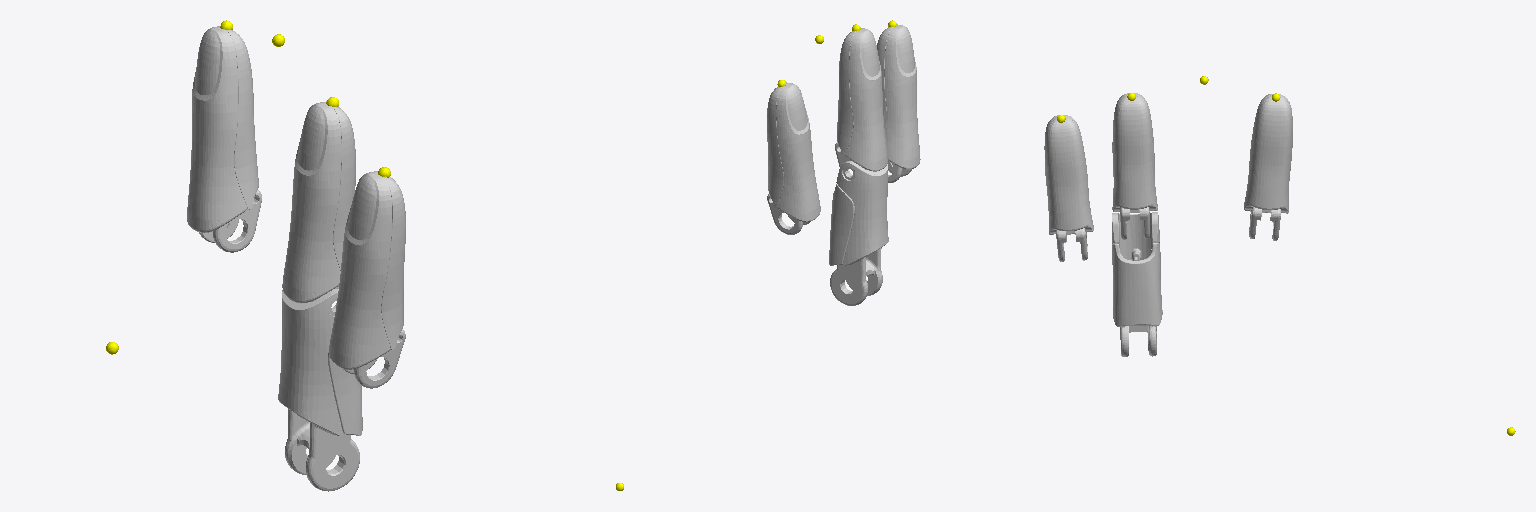
robot.urdf — a2_l1_right_hand:
<?xml version='1.0' encoding='utf-8'?>
<robot name="a2_l1_right_hand">
  <!--Extracted from DVT2 a2. Palm-root coordinates; source joint and inertial values preserved.-->
  <link name="right_palm_base_link">
    <visual name="right_palm_base_link_vis">
      <origin rpy="0 0 0" xyz="0 0 0" />
      <geometry>
        <mesh filename="../mesh/visual/casbot_hand/right_palm_base_link.obj" />
      </geometry>
      <material name="metal">
        <color rgba="0.85 0.85 0.85 1" />
      </material>
    </visual>
    <collision name="right_palm_base_link_col">
      <origin rpy="0 0 0" xyz="0 0 0" />
      <geometry>
        <mesh filename="../mesh/collision/casbot_hand/right_palm_base_link.obj" />
      </geometry>
    </collision>
    <inertial>
      <origin rpy="0.0 0.0 0.0" xyz="-0.0013 0.00050057 0.05223" />
      <mass value="0.43199" />
      <inertia ixx="0.00052055" ixy="-9.71e-06" ixz="3.11e-05" iyy="0.00037083" iyz="1.74e-05" izz="0.000235" />
    </inertial>
  </link>
  <link name="right_thumb_cmc_link">
    <visual name="right_thumb_cmc_link_vis">
      <origin rpy="0 0 0" xyz="0 0 0" />
      <geometry>
        <mesh filename="../mesh/visual/casbot_hand/right_thumb_cmc_link.obj" />
      </geometry>
      <material name="metal">
        <color rgba="0.85 0.85 0.85 1" />
      </material>
    </visual>
    <collision name="right_thumb_cmc_link_col">
      <origin rpy="0 0 0" xyz="0 0 0" />
      <geometry>
        <mesh filename="../mesh/collision/casbot_hand/right_thumb_cmc_link.obj" />
      </geometry>
    </collision>
    <inertial>
      <origin rpy="0.0 0.0 0.0" xyz="0 0.0049732 0.0007749" />
      <mass value="0.022768" />
      <inertia ixx="2E-06" ixy="0" ixz="0" iyy="1.02e-06" iyz="1.75e-07" izz="1.51e-06" />
    </inertial>
  </link>
  <link name="right_thumb_pip_link">
    <visual name="right_thumb_pip_link_vis">
      <origin rpy="0 0 0" xyz="0 0 0" />
      <geometry>
        <mesh filename="../mesh/visual/casbot_hand/right_thumb_pip_link.obj" />
      </geometry>
      <material name="metal">
        <color rgba="0.85 0.85 0.85 1" />
      </material>
    </visual>
    <collision name="right_thumb_pip_link_col">
      <origin rpy="0 0 0" xyz="0 0 0" />
      <geometry>
        <mesh filename="../mesh/collision/casbot_hand/right_thumb_pip_link.obj" />
      </geometry>
    </collision>
    <inertial>
      <origin rpy="0.0 0.0 0.0" xyz="5.03e-06 0.023794 0.005" />
      <mass value="0.02573" />
      <inertia ixx="5.72e-06" ixy="0" ixz="0" iyy="1.75e-06" iyz="-1.45e-06" izz="5.48e-06" />
    </inertial>
  </link>
  <link name="right_thumb_dip_link">
    <visual name="right_thumb_dip_link_vis">
      <origin rpy="0 0 0" xyz="0 0 0" />
      <geometry>
        <mesh filename="../mesh/visual/casbot_hand/right_thumb_dip_link.obj" />
      </geometry>
      <material name="metal">
        <color rgba="0.85 0.85 0.85 1" />
      </material>
    </visual>
    <collision name="right_thumb_dip_link_col">
      <origin rpy="0 0 0" xyz="0 0 0" />
      <geometry>
        <mesh filename="../mesh/collision/casbot_hand/right_thumb_dip_link.obj" />
      </geometry>
    </collision>
    <inertial>
      <origin rpy="0.0 0.0 0.0" xyz="-1.38e-05 0.020432 0.0085859" />
      <mass value="0.01371" />
      <inertia ixx="2.57e-06" ixy="0" ixz="0" iyy="9.2e-07" iyz="-8.3e-07" izz="2.29e-06" />
    </inertial>
  </link>
  <link name="right_thumb_tip_frame">
    <visual name="right_thumb_tip_frame_vis">
      <origin rpy="0 0 0" xyz="0 0 0" />
      <geometry>
        <sphere radius="0.0015" />
      </geometry>
      <material name="yellow">
        <color rgba="1 1 0 1" />
      </material>
    </visual>
    <collision name="right_thumb_tip_frame_col">
      <origin rpy="0 0 0" xyz="0 0 0" />
      <geometry>
        <sphere radius="0.0015" />
      </geometry>
    </collision>
    <inertial>
      <mass value="0" />
      <inertia ixx="0" ixy="0" ixz="0" iyy="0" iyz="0" izz="0" />
    </inertial>
  </link>
  <link name="right_index_mcp_link">
    <visual name="right_index_mcp_link_vis">
      <origin rpy="0 0 0" xyz="0 0 0" />
      <geometry>
        <mesh filename="../mesh/visual/casbot_hand/right_index_mcp_link.obj" />
      </geometry>
      <material name="metal">
        <color rgba="0.85 0.85 0.85 1" />
      </material>
    </visual>
    <collision name="right_index_mcp_link_col">
      <origin rpy="0 0 0" xyz="0 0 0" />
      <geometry>
        <mesh filename="../mesh/collision/casbot_hand/right_index_mcp_link.obj" />
      </geometry>
    </collision>
    <inertial>
      <origin rpy="0.0 0.0 0.0" xyz="-0.0014621 0 0.020991" />
      <mass value="0.01931" />
      <inertia ixx="4.71e-06" ixy="0" ixz="2E-08" iyy="4.7e-06" iyz="0" izz="6.6e-07" />
    </inertial>
  </link>
  <link name="right_index_pip_link">
    <visual name="right_index_pip_link_vis">
      <origin rpy="0 0 0" xyz="0 0 0" />
      <geometry>
        <mesh filename="../mesh/visual/casbot_hand/right_index_pip_link.obj" />
      </geometry>
      <material name="metal">
        <color rgba="0.85 0.85 0.85 1" />
      </material>
    </visual>
    <collision name="right_index_pip_link_col">
      <origin rpy="0 0 0" xyz="0 0 0" />
      <geometry>
        <mesh filename="../mesh/collision/casbot_hand/right_index_pip_link.obj" />
      </geometry>
    </collision>
    <inertial>
      <origin rpy="0.0 0.0 0.0" xyz="-0.00052321 4.79e-05 0.020992" />
      <mass value="0.011321" />
      <inertia ixx="2.23e-06" ixy="0" ixz="-8E-08" iyy="2.24e-06" iyz="0" izz="3.4e-07" />
    </inertial>
  </link>
  <link name="right_index_tip_frame">
    <visual name="right_index_tip_frame_vis">
      <origin rpy="0 0 0" xyz="0 0 0" />
      <geometry>
        <sphere radius="0.0015" />
      </geometry>
      <material name="yellow">
        <color rgba="1 1 0 1" />
      </material>
    </visual>
    <collision name="right_index_tip_frame_col">
      <origin rpy="0 0 0" xyz="0 0 0" />
      <geometry>
        <sphere radius="0.0015" />
      </geometry>
    </collision>
    <inertial>
      <mass value="0" />
      <inertia ixx="0" ixy="0" ixz="0" iyy="0" iyz="0" izz="0" />
    </inertial>
  </link>
  <link name="right_middle_mcp_link">
    <visual name="right_middle_mcp_link_vis">
      <origin rpy="0 0 0" xyz="0 0 0" />
      <geometry>
        <mesh filename="../mesh/visual/casbot_hand/right_middle_mcp_link.obj" />
      </geometry>
      <material name="metal">
        <color rgba="0.85 0.85 0.85 1" />
      </material>
    </visual>
    <collision name="right_middle_mcp_link_col">
      <origin rpy="0 0 0" xyz="0 0 0" />
      <geometry>
        <mesh filename="../mesh/collision/casbot_hand/right_middle_mcp_link.obj" />
      </geometry>
    </collision>
    <inertial>
      <origin rpy="0.0 0.0 0.0" xyz="-0.0016354 5.225e-05 0.023208" />
      <mass value="0.021278" />
      <inertia ixx="6.35e-06" ixy="0" ixz="5E-08" iyy="6.35e-06" iyz="0" izz="7.4e-07" />
    </inertial>
  </link>
  <link name="right_middle_pip_link">
    <visual name="right_middle_pip_link_vis">
      <origin rpy="0 0 0" xyz="0 0 0" />
      <geometry>
        <mesh filename="../mesh/visual/casbot_hand/right_middle_pip_link.obj" />
      </geometry>
      <material name="metal">
        <color rgba="0.85 0.85 0.85 1" />
      </material>
    </visual>
    <collision name="right_middle_pip_link_col">
      <origin rpy="0 0 0" xyz="0 0 0" />
      <geometry>
        <mesh filename="../mesh/collision/casbot_hand/right_middle_pip_link.obj" />
      </geometry>
    </collision>
    <inertial>
      <origin rpy="0.0 0.0 0.0" xyz="-0.00052321 4.79e-05 0.020992" />
      <mass value="0.011321" />
      <inertia ixx="2.23e-06" ixy="0" ixz="-8E-08" iyy="2.24e-06" iyz="0" izz="3.4e-07" />
    </inertial>
  </link>
  <link name="right_middle_tip_frame">
    <visual name="right_middle_tip_frame_vis">
      <origin rpy="0 0 0" xyz="0 0 0" />
      <geometry>
        <sphere radius="0.0015" />
      </geometry>
      <material name="yellow">
        <color rgba="1 1 0 1" />
      </material>
    </visual>
    <collision name="right_middle_tip_frame_col">
      <origin rpy="0 0 0" xyz="0 0 0" />
      <geometry>
        <sphere radius="0.0015" />
      </geometry>
    </collision>
    <inertial>
      <mass value="0" />
      <inertia ixx="0" ixy="0" ixz="0" iyy="0" iyz="0" izz="0" />
    </inertial>
  </link>
  <link name="right_ring_mcp_link">
    <visual name="right_ring_mcp_link_vis">
      <origin rpy="0 0 0" xyz="0 0 0" />
      <geometry>
        <mesh filename="../mesh/visual/casbot_hand/right_ring_mcp_link.obj" />
      </geometry>
      <material name="metal">
        <color rgba="0.85 0.85 0.85 1" />
      </material>
    </visual>
    <collision name="right_ring_mcp_link_col">
      <origin rpy="0 0 0" xyz="0 0 0" />
      <geometry>
        <mesh filename="../mesh/collision/casbot_hand/right_ring_mcp_link.obj" />
      </geometry>
    </collision>
    <inertial>
      <origin rpy="0.0 0.0 0.0" xyz="-0.0014621 0 0.020991" />
      <mass value="0.01931" />
      <inertia ixx="4.71e-06" ixy="0" ixz="2E-08" iyy="4.7e-06" iyz="0" izz="6.6e-07" />
    </inertial>
  </link>
  <link name="right_ring_pip_link">
    <visual name="right_ring_pip_link_vis">
      <origin rpy="0 0 0" xyz="0 0 0" />
      <geometry>
        <mesh filename="../mesh/visual/casbot_hand/right_ring_pip_link.obj" />
      </geometry>
      <material name="metal">
        <color rgba="0.85 0.85 0.85 1" />
      </material>
    </visual>
    <collision name="right_ring_pip_link_col">
      <origin rpy="0 0 0" xyz="0 0 0" />
      <geometry>
        <mesh filename="../mesh/collision/casbot_hand/right_ring_pip_link.obj" />
      </geometry>
    </collision>
    <inertial>
      <origin rpy="0.0 0.0 0.0" xyz="-0.00052321 4.79e-05 0.020992" />
      <mass value="0.011321" />
      <inertia ixx="2.23e-06" ixy="0" ixz="-8E-08" iyy="2.24e-06" iyz="0" izz="3.4e-07" />
    </inertial>
  </link>
  <link name="right_ring_tip_frame">
    <visual name="right_ring_tip_frame_vis">
      <origin rpy="0 0 0" xyz="0 0 0" />
      <geometry>
        <sphere radius="0.0015" />
      </geometry>
      <material name="yellow">
        <color rgba="1 1 0 1" />
      </material>
    </visual>
    <collision name="right_ring_tip_frame_col">
      <origin rpy="0 0 0" xyz="0 0 0" />
      <geometry>
        <sphere radius="0.0015" />
      </geometry>
    </collision>
    <inertial>
      <mass value="0" />
      <inertia ixx="0" ixy="0" ixz="0" iyy="0" iyz="0" izz="0" />
    </inertial>
  </link>
  <link name="right_little_mcp_link">
    <visual name="right_little_mcp_link_vis">
      <origin rpy="0 0 0" xyz="0 0 0" />
      <geometry>
        <mesh filename="../mesh/visual/casbot_hand/right_little_mcp_link.obj" />
      </geometry>
      <material name="metal">
        <color rgba="0.85 0.85 0.85 1" />
      </material>
    </visual>
    <collision name="right_little_mcp_link_col">
      <origin rpy="0 0 0" xyz="0 0 0" />
      <geometry>
        <mesh filename="../mesh/collision/casbot_hand/right_little_mcp_link.obj" />
      </geometry>
    </collision>
    <inertial>
      <origin rpy="0.0 0.0 0.0" xyz="-0.00146313 4.158e-05 0.01853468" />
      <mass value="0.01761671" />
      <inertia ixx="3.75e-06" ixy="0" ixz="3E-08" iyy="3.73e-06" iyz="0" izz="5.7e-07" />
    </inertial>
  </link>
  <link name="right_little_pip_link">
    <visual name="right_little_pip_link_vis">
      <origin rpy="0 0 0" xyz="0 0 0" />
      <geometry>
        <mesh filename="../mesh/visual/casbot_hand/right_little_pip_link.obj" />
      </geometry>
      <material name="metal">
        <color rgba="0.85 0.85 0.85 1" />
      </material>
    </visual>
    <collision name="right_little_pip_link_col">
      <origin rpy="0 0 0" xyz="0 0 0" />
      <geometry>
        <mesh filename="../mesh/collision/casbot_hand/right_little_pip_link.obj" />
      </geometry>
    </collision>
    <inertial>
      <origin rpy="0.0 0.0 0.0" xyz="-0.00052321 4.79e-05 0.020992" />
      <mass value="0.011321" />
      <inertia ixx="2.23e-06" ixy="0" ixz="-8E-08" iyy="2.24e-06" iyz="0" izz="3.4e-07" />
    </inertial>
  </link>
  <link name="right_little_tip_frame">
    <visual name="right_little_tip_frame_vis">
      <origin rpy="0 0 0" xyz="0 0 0" />
      <geometry>
        <sphere radius="0.0015" />
      </geometry>
      <material name="yellow">
        <color rgba="1 1 0 1" />
      </material>
    </visual>
    <collision name="right_little_tip_frame_col">
      <origin rpy="0 0 0" xyz="0 0 0" />
      <geometry>
        <sphere radius="0.0015" />
      </geometry>
    </collision>
    <inertial>
      <mass value="0" />
      <inertia ixx="0" ixy="0" ixz="0" iyy="0" iyz="0" izz="0" />
    </inertial>
  </link>
  <joint name="right_thumb_cmc_joint" type="revolute">
    <origin rpy="0 0 0" xyz="0.01725 0.019999 0.031319" />
    <parent link="right_palm_base_link" />
    <child link="right_thumb_cmc_link" />
    <axis xyz="0 0 -1" />
    <limit effort="0.5" lower="0" upper="2.0944" velocity="2.6175" />
    <dynamics damping="0.1" friction="0.1" />
  </joint>
  <joint name="right_thumb_pip_joint" type="revolute">
    <origin rpy="0 0 0" xyz="0 0.0105 0.0015" />
    <parent link="right_thumb_cmc_link" />
    <child link="right_thumb_pip_link" />
    <axis xyz="1 0 0" />
    <limit effort="1.1" lower="0" upper="0.5236" velocity="2.5303" />
    <dynamics damping="0.1" friction="0.1" />
  </joint>
  <joint name="right_thumb_dip_joint" type="revolute">
    <origin rpy="0 0 0" xyz="0 0.040457 0.011324" />
    <parent link="right_thumb_pip_link" />
    <child link="right_thumb_dip_link" />
    <axis xyz="1 0 0" />
    <limit effort="1.1" lower="0" upper="0.5236" velocity="2.5303" />
    <dynamics damping="0.1" friction="0.1" />
    <mimic joint="right_thumb_pip_joint" multiplier="1.0" offset="0.0" />
  </joint>
  <joint name="right_thumb_tip_fixed_joint" type="fixed">
    <origin rpy="0 0 0" xyz="0 0.0442352476115448 0.021220287745977" />
    <parent link="right_thumb_dip_link" />
    <child link="right_thumb_tip_frame" />
  </joint>
  <joint name="right_index_mcp_joint" type="revolute">
    <origin rpy="-0.07854 0 0" xyz="0.00025022 0.027833 0.093267" />
    <parent link="right_palm_base_link" />
    <child link="right_index_mcp_link" />
    <axis xyz="0 1 0" />
    <limit effort="2.0" lower="0" upper="1.5708" velocity="2.2685" />
    <dynamics damping="0.1" friction="0.1" />
  </joint>
  <joint name="right_index_pip_joint" type="revolute">
    <origin rpy="0 0 0" xyz="-0.000999999999795301 0 0.0420000000000047" />
    <parent link="right_index_mcp_link" />
    <child link="right_index_pip_link" />
    <axis xyz="0 1 0" />
    <limit effort="2.0" lower="0" upper="1.5708" velocity="2.2685" />
    <dynamics damping="0.1" friction="0.1" />
    <mimic joint="right_index_mcp_joint" multiplier="1.14" offset="0.0" />
  </joint>
  <joint name="right_index_tip_fixed_joint" type="fixed">
    <origin rpy="0 0 0" xyz="0.00239490620992461 0 0.0487999999998081" />
    <parent link="right_index_pip_link" />
    <child link="right_index_tip_frame" />
  </joint>
  <joint name="right_middle_mcp_joint" type="revolute">
    <origin rpy="-0.02618 0 0" xyz="0.00025022 0.0079444 0.094317" />
    <parent link="right_palm_base_link" />
    <child link="right_middle_mcp_link" />
    <axis xyz="0 1 0" />
    <limit effort="2.0" lower="0" upper="1.5708" velocity="2.2685" />
    <dynamics damping="0.1" friction="0.1" />
  </joint>
  <joint name="right_middle_pip_joint" type="revolute">
    <origin rpy="0 0 0" xyz="-0.00125209669047528 0 0.047144897303592" />
    <parent link="right_middle_mcp_link" />
    <child link="right_middle_pip_link" />
    <axis xyz="0 1 0" />
    <limit effort="2.0" lower="0" upper="1.5708" velocity="2.2685" />
    <dynamics damping="0.1" friction="0.1" />
    <mimic joint="right_middle_mcp_joint" multiplier="1.155" offset="0.0" />
  </joint>
  <joint name="right_middle_tip_fixed_joint" type="fixed">
    <origin rpy="0 0 0" xyz="0.00239490620998905 0 0.0487999999999994" />
    <parent link="right_middle_pip_link" />
    <child link="right_middle_tip_frame" />
  </joint>
  <joint name="right_ring_mcp_joint" type="revolute">
    <origin rpy="0.02618 0 0" xyz="0.00025022 -0.011946 0.093314" />
    <parent link="right_palm_base_link" />
    <child link="right_ring_mcp_link" />
    <axis xyz="0 1 0" />
    <limit effort="2.0" lower="0" upper="1.5708" velocity="2.2685" />
    <dynamics damping="0.1" friction="0.1" />
  </joint>
  <joint name="right_ring_pip_joint" type="revolute">
    <origin rpy="0 0 0" xyz="-0.000999999999795358 0 0.0420000000000049" />
    <parent link="right_ring_mcp_link" />
    <child link="right_ring_pip_link" />
    <axis xyz="0 1 0" />
    <limit effort="2.0" lower="0" upper="1.5708" velocity="2.2685" />
    <dynamics damping="0.1" friction="0.1" />
    <mimic joint="right_ring_mcp_joint" multiplier="1.155" offset="0.0" />
  </joint>
  <joint name="right_ring_tip_fixed_joint" type="fixed">
    <origin rpy="0 0 0" xyz="0.00239490620998905 0 0.0487999999999994" />
    <parent link="right_ring_pip_link" />
    <child link="right_ring_tip_frame" />
  </joint>
  <joint name="right_little_mcp_joint" type="revolute">
    <origin rpy="0.0785398163397473 0 0" xyz="0.000250220386743869 -0.0316242223315055 0.0902670041912327" />
    <parent link="right_palm_base_link" />
    <child link="right_little_mcp_link" />
    <axis xyz="0 1 0" />
    <limit effort="2.0" lower="0" upper="1.5708" velocity="2.2685" />
    <dynamics damping="0.1" friction="0.1" />
  </joint>
  <joint name="right_little_pip_joint" type="revolute">
    <origin rpy="0 0 0" xyz="-0.000999999999990048 0 0.0370000000000002" />
    <parent link="right_little_mcp_link" />
    <child link="right_little_pip_link" />
    <axis xyz="0 1 0" />
    <limit effort="2.0" lower="0" upper="1.5708" velocity="2.2685" />
    <dynamics damping="0.1" friction="0.1" />
    <mimic joint="right_little_mcp_joint" multiplier="1.155" offset="0.0" />
  </joint>
  <joint name="right_little_tip_fixed_joint" type="fixed">
    <origin rpy="0 0 0" xyz="0.00239490620992915 0 0.0487999999997318" />
    <parent link="right_little_pip_link" />
    <child link="right_little_tip_frame" />
  </joint>
</robot>

--- What the picture shows (computed from the rendered views, not written in the file) ---
The picture shows the robot from 3 angles, left to right: view 1: azimuth 30°, elevation 25°; view 2: azimuth 150°, elevation 25°; view 3: azimuth 270°, elevation 25°; orthographic projection.
Robot: a2_l1_right_hand — 17 links, 16 joints (11 revolute, 5 fixed); root link right_palm_base_link; default pose: every joint at zero.
Visible links, largest first — view 1: right_index_pip_link, right_little_pip_link, right_ring_mcp_link, right_ring_pip_link; view 2: right_ring_mcp_link, right_index_pip_link, right_ring_pip_link, right_little_pip_link; view 3: right_ring_mcp_link, right_index_pip_link, right_little_pip_link, right_ring_pip_link.
Boxes of the visible links, x1=… form: right_index_pip_link: x1=187, y1=26, x2=261, y2=252; right_little_pip_link: x1=329, y1=171, x2=405, y2=388; right_ring_mcp_link: x1=278, y1=289, x2=362, y2=491; right_ring_pip_link: x1=282, y1=101, x2=355, y2=308; right_ring_mcp_link: x1=829, y1=161, x2=888, y2=305; right_index_pip_link: x1=767, y1=82, x2=820, y2=234; right_ring_pip_link: x1=835, y1=28, x2=887, y2=174; right_little_pip_link: x1=877, y1=24, x2=920, y2=182; right_ring_mcp_link: x1=1112, y1=212, x2=1162, y2=356; right_index_pip_link: x1=1244, y1=94, x2=1292, y2=240; right_little_pip_link: x1=1044, y1=115, x2=1093, y2=261; right_ring_pip_link: x1=1112, y1=93, x2=1157, y2=239.
Bounding box of the posed robot: 0.0289 × 0.1608 × 0.1279 m (x, y, z).
4 mesh visuals loaded from 12 distinct referenced files (4 OBJ); not drawn: 8 (reference not matched to a file when rendering).
